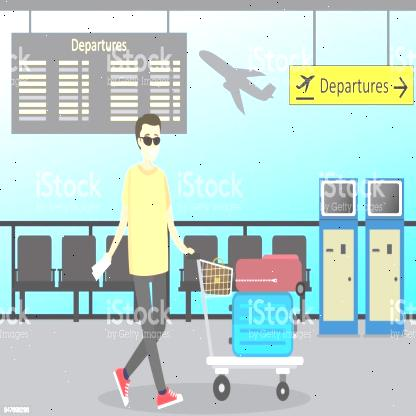airport-trolley: (185, 244, 308, 406)
